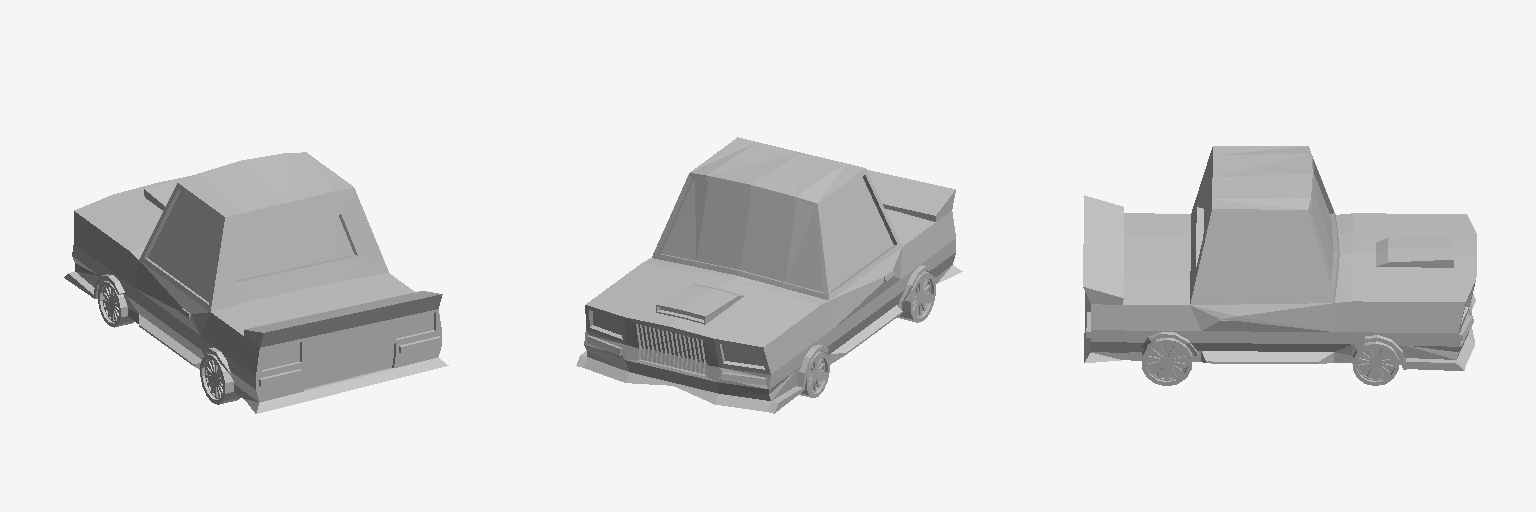
File: Car.obj
3 views of the same model, side by side, from view 1: azimuth 30°, elevation 25°; view 2: azimuth 150°, elevation 25°; view 3: azimuth 270°, elevation 25° (orthographic).
Parts seen in each view (by area): view 1: body, backlight, wheel.1, wheel1.1; view 2: body, lattice.1, wheel.1, headlight, wheel1.1; view 3: body, wheel.1, wheel1.1.
Boxes of the visible parts, x1,y1,x2,y2 form: body: [64, 152, 448, 413]; backlight: [262, 313, 433, 369]; wheel.1: [200, 354, 241, 404]; wheel1.1: [98, 281, 134, 327]; body: [576, 137, 962, 413]; lattice.1: [638, 325, 706, 374]; wheel.1: [897, 271, 935, 322]; headlight: [593, 311, 763, 365]; wheel1.1: [799, 351, 829, 397]; body: [1083, 146, 1476, 370]; wheel.1: [1142, 338, 1191, 385]; wheel1.1: [1353, 341, 1398, 385].
Size of the model in its own units: 4.03 by 3.21 by 6.9.